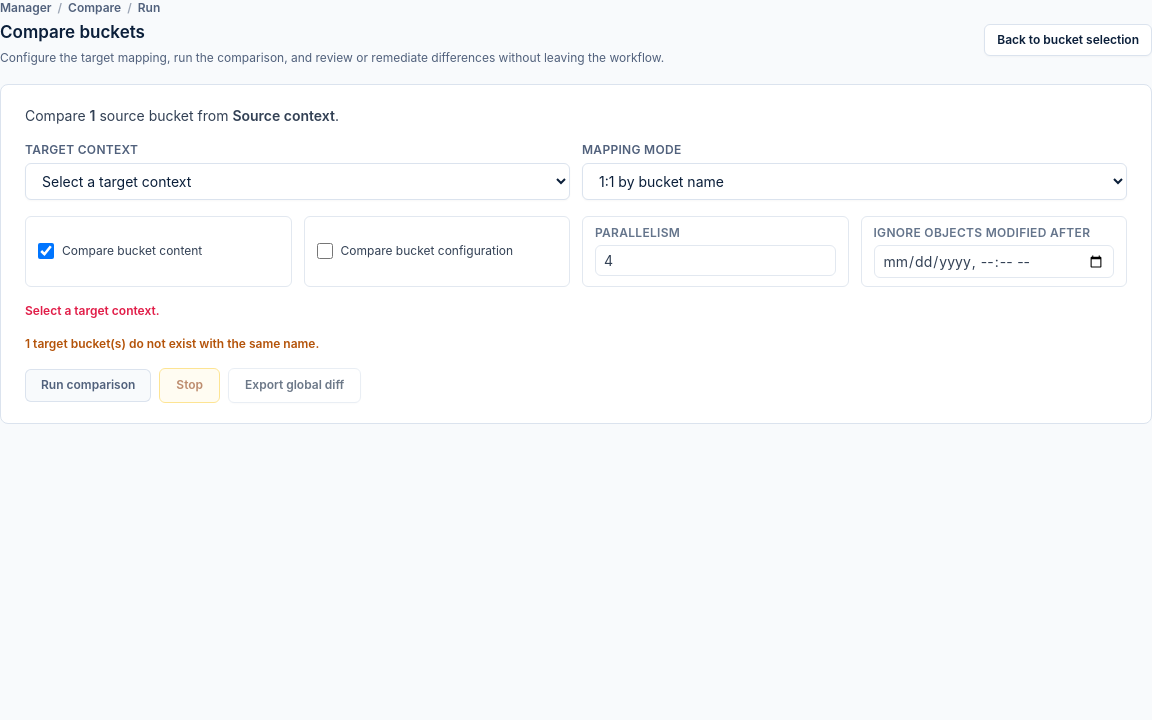
ManagerBucketCompareModal remediation actions › shows remediation action buttons when content sections have differences
This screenshot has width=1152, height=720.
Expected: the dropdown labelled "Mapping mode" is shown, [582,162,1127,200]
Select "Target context" in the dropdown labelled "Target context" at (298, 181), box [25,162,570,200]
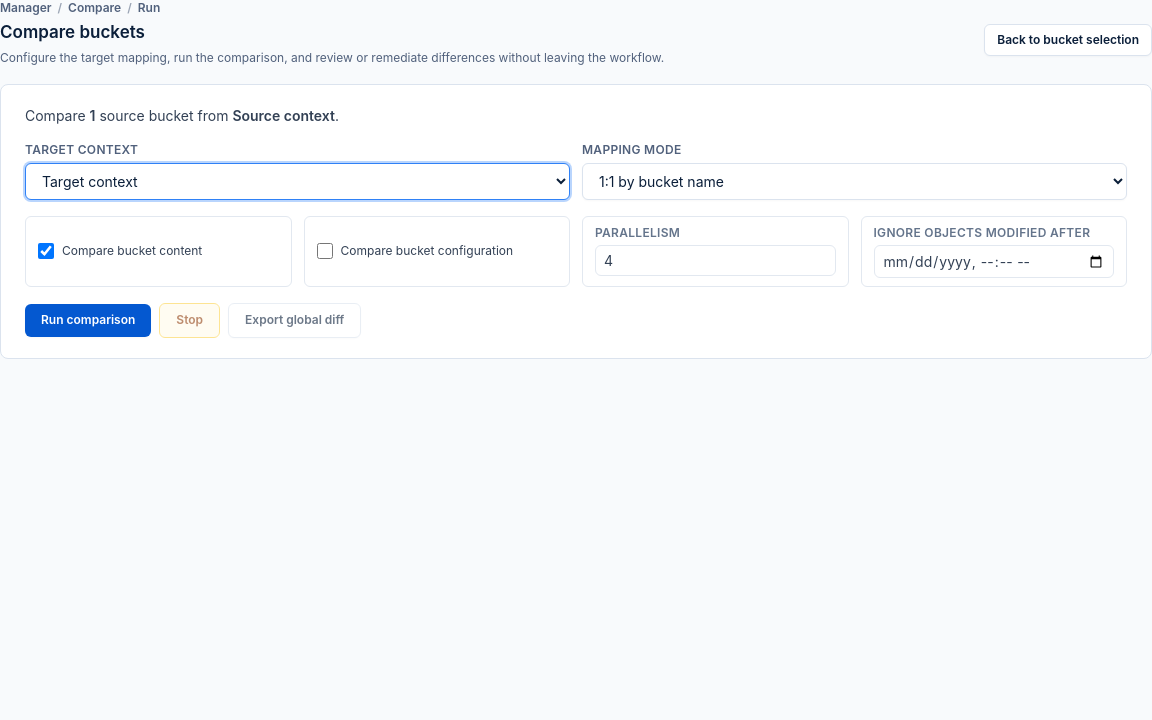
Expected: the button "Run comparison" is enabled
Click the button "Run comparison".
click(88, 320)  # box [25,304,151,336]
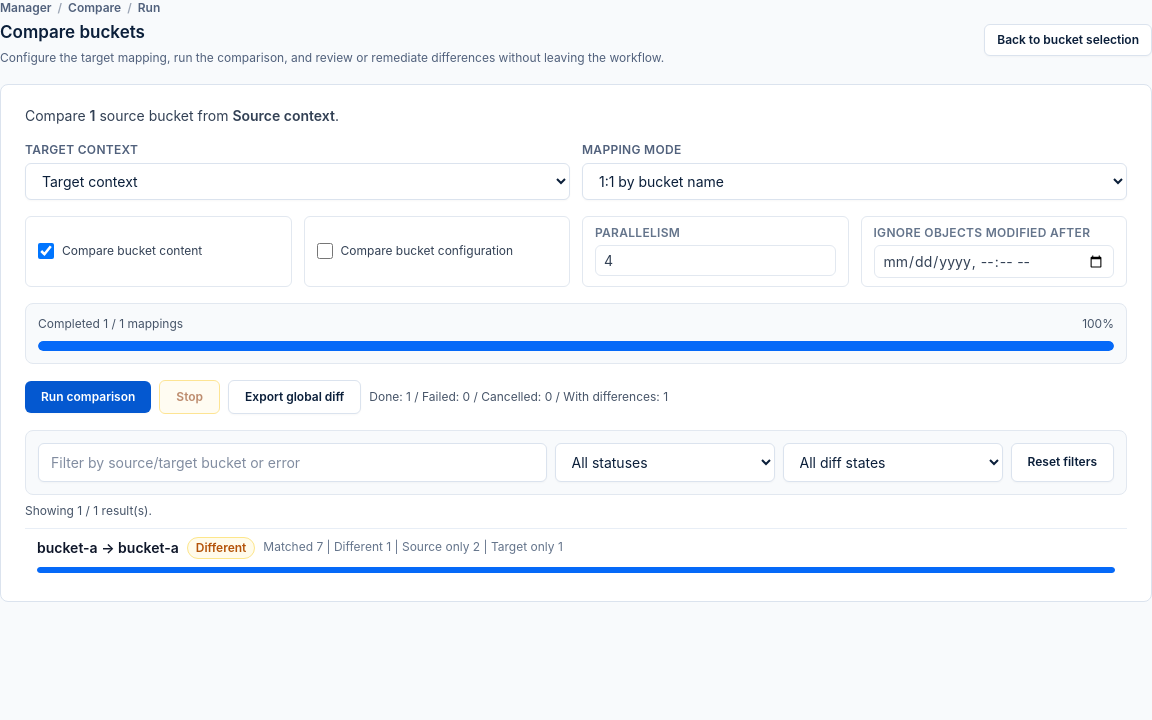
Click the heading that starts with "bucket-a".
click(67, 547)  # box [25,528,1127,580]
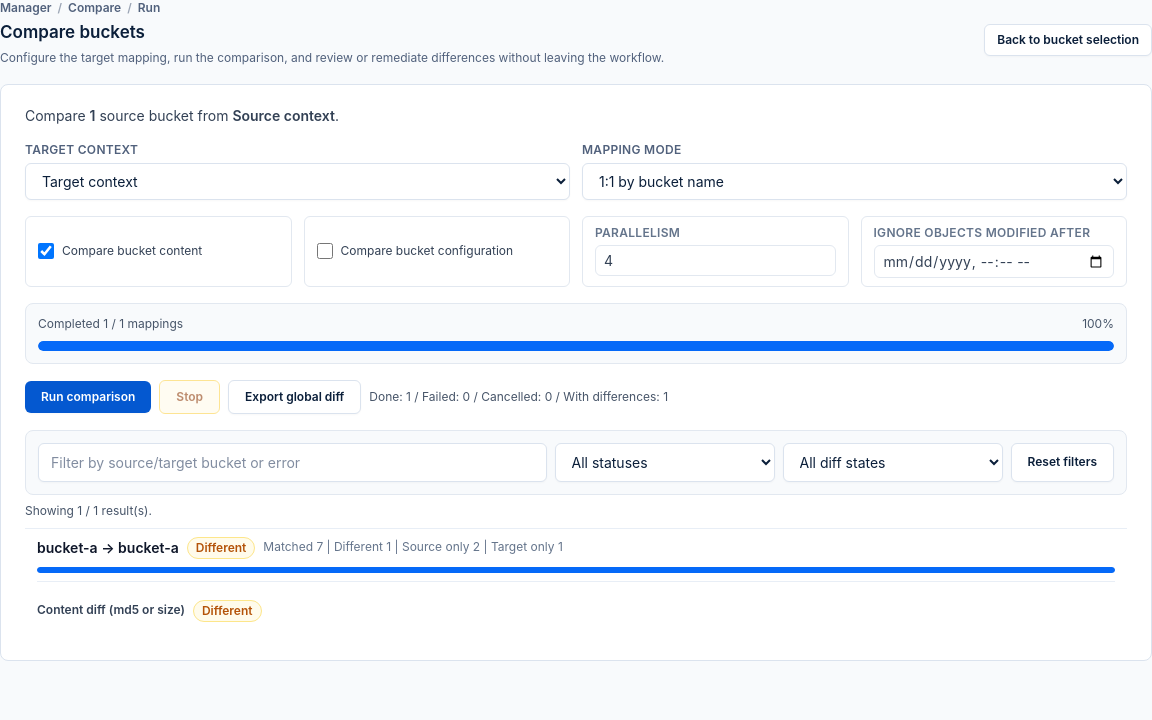
Click the heading "Content diff (md5 or size) Different".
click(149, 610)  # box [37,600,262,622]
(page scrolled)
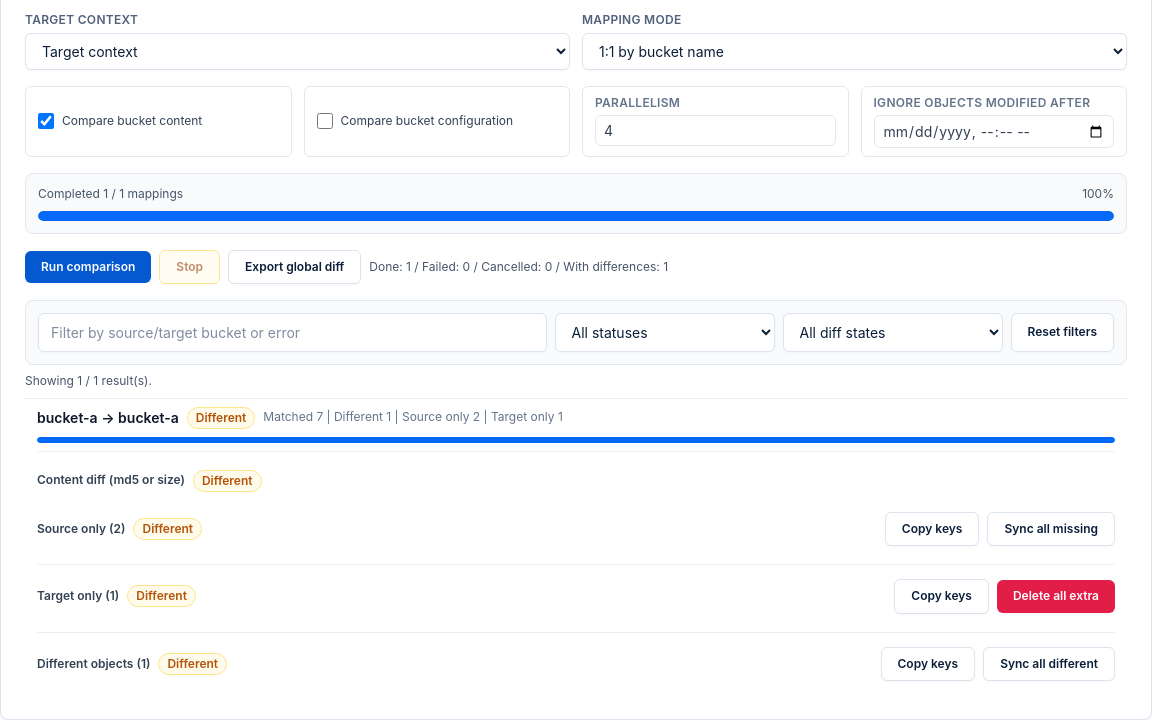
Expected: the button "Sync all missing" is shown, [988,512,1115,546]
Expected: the button "Sync all different" is shown, [983,646,1115,681]
Expected: the button "Delete all extra" is shown, [997,580,1115,612]
